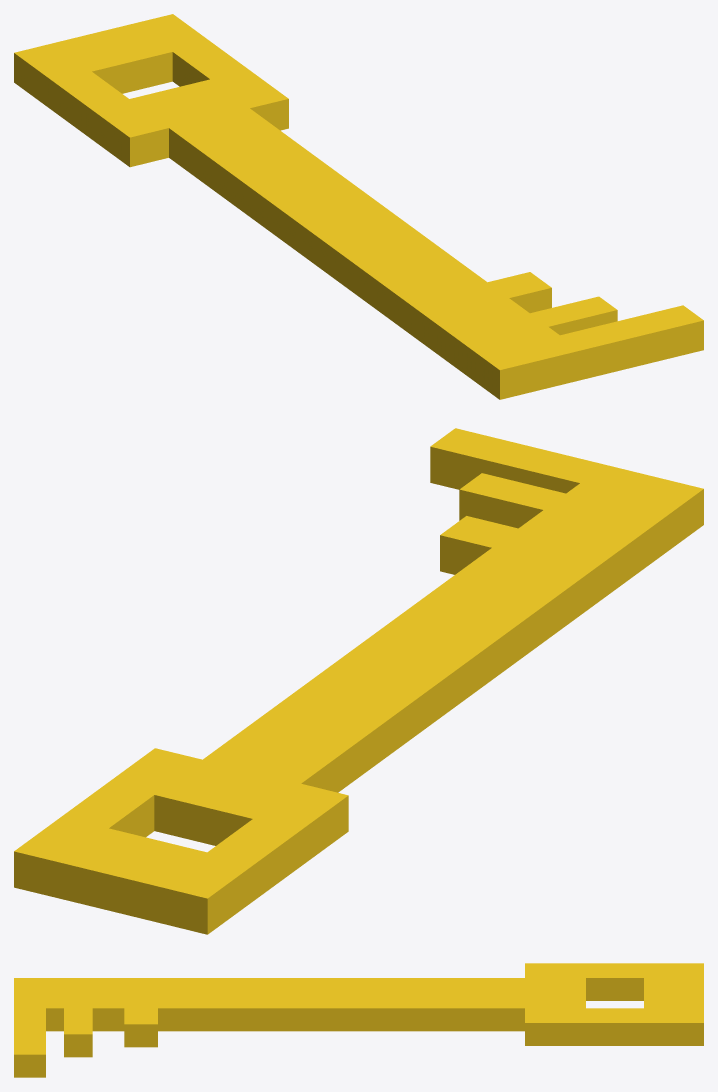
The model's file is gold_key.glb.
3 renders of one model, top to bottom at view 1: azimuth 30°, elevation 25°; view 2: azimuth 150°, elevation 25°; view 3: azimuth 270°, elevation 25°, orthographic. The views are drawn at different scales.
Parts seen in each view (by area): view 1: Key_Gold; view 2: Key_Gold; view 3: Key_Gold.
Boxes of the visible parts, x1,y1,x2,y2 form: Key_Gold: (14,14,703,399); Key_Gold: (14,428,703,934); Key_Gold: (14,963,703,1077).
Size of the model in its own units: 0.1254 by 0.0147 by 0.3989.
